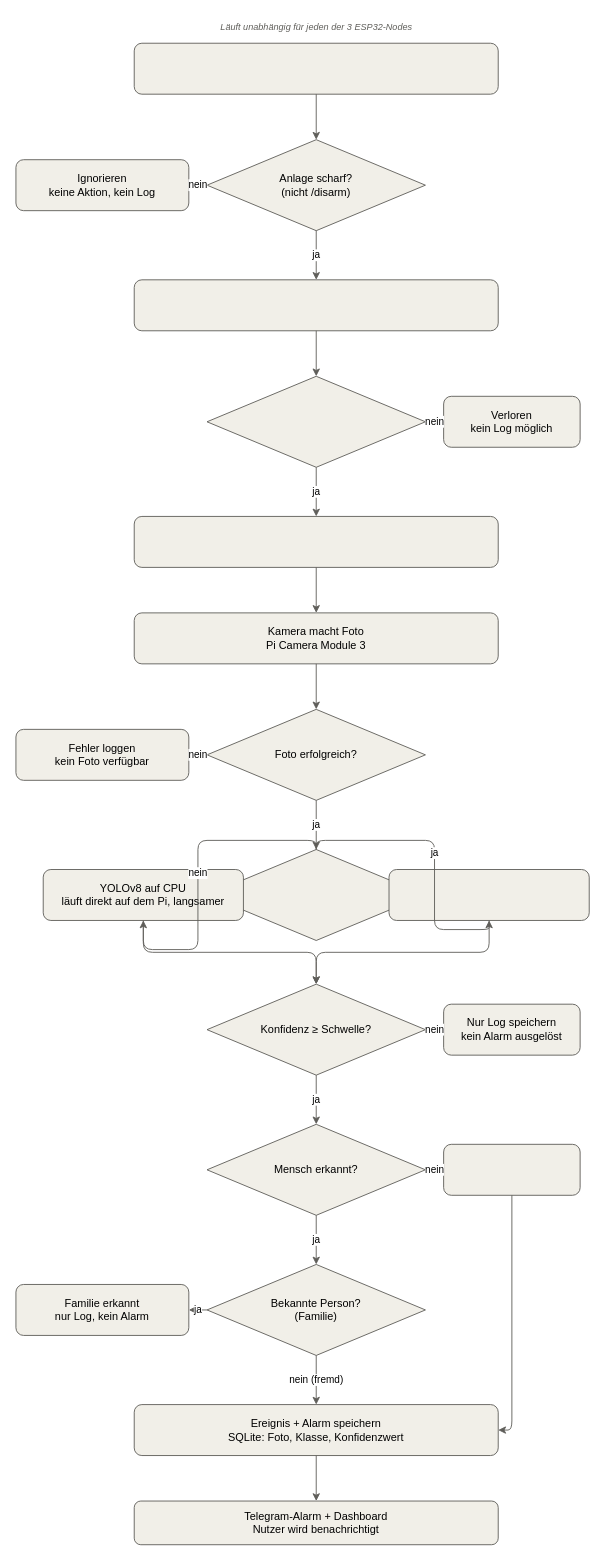
Image size: 605x1561. Some labels were removed from this diagram. Each missing label, with the centre of its shape:
AI Kit (Hailo-8L) vorhanden?: point (315, 894)
ESP32 sendet HTTP-POST über WLAN an den Raspberry Pi: point (315, 305)
Pi erreichbar?: point (315, 421)
Pi prüft Tageszeit setzt Tag- oder Nacht-Schwelle: point (315, 541)
PIR-Sensor erkennt Bewegung an einem ESP32-Node: point (315, 68)
Tier oder Fahrzeug Ereignis speichern: point (511, 1169)
YOLOv8 via Hailo-8L beschleunigt, schneller: point (488, 894)
